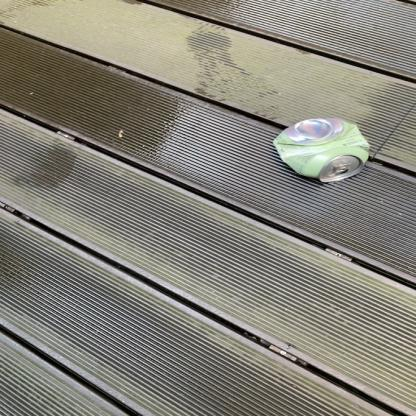Aerosols: (260, 105, 378, 188)
